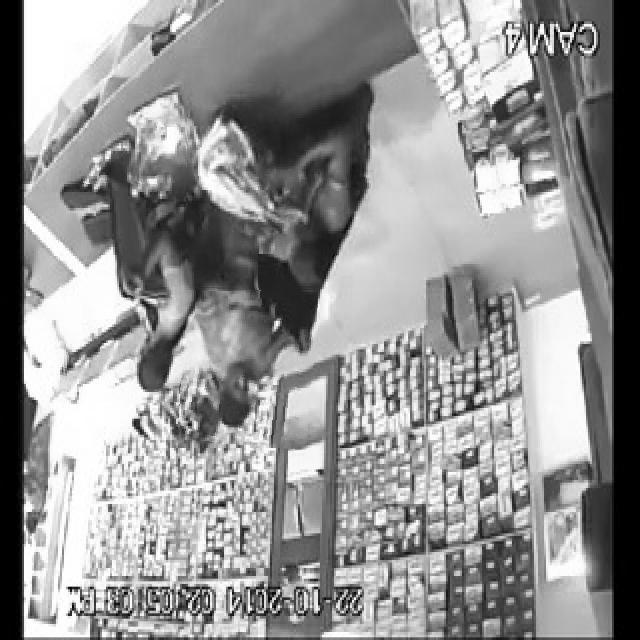normal: (59, 78, 199, 403), (185, 68, 387, 291), (180, 222, 318, 448)
